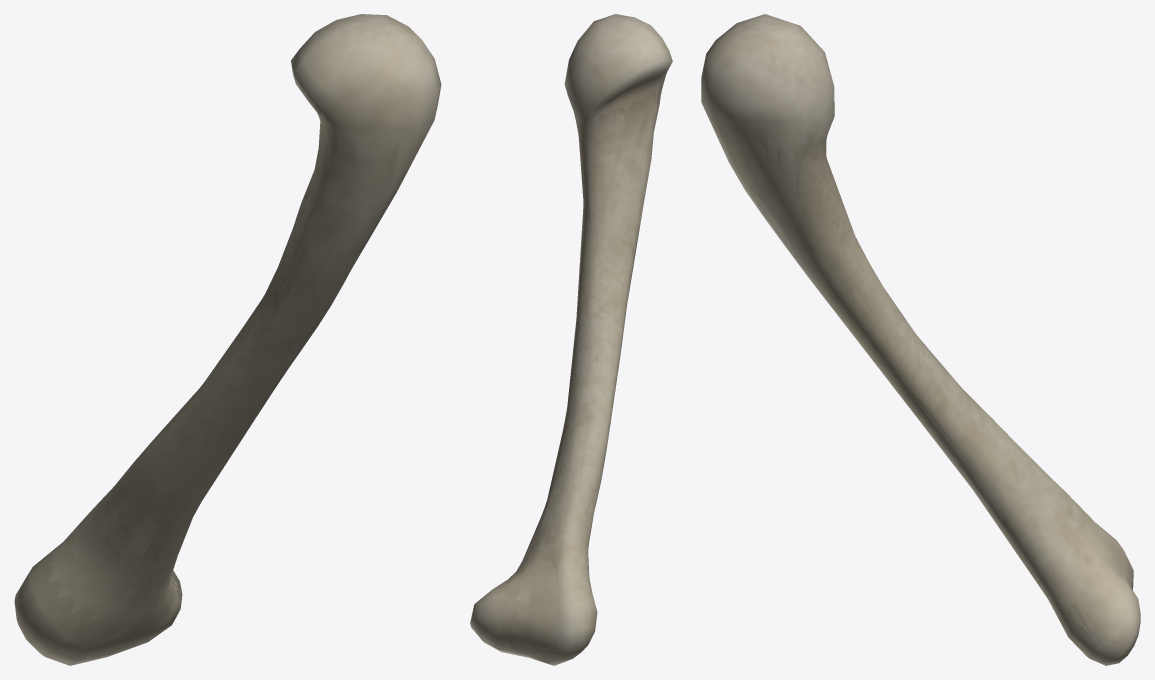
The model's file is R Humerus.fbx.
3 views of the same model, side by side, from view 1: azimuth 30°, elevation 25°; view 2: azimuth 150°, elevation 25°; view 3: azimuth 270°, elevation 25° (orthographic). The views are drawn at different scales.
Parts seen in each view (by area): view 1: R Humerus, R Humerus low, R Humerus high; view 2: R Humerus low, R Humerus, R Humerus high; view 3: R Humerus low, R Humerus, R Humerus high.
Part boxes in pixels (left/top/right/bottom): R Humerus: left=14, top=14, right=441, bottom=665; R Humerus low: left=15, top=15, right=440, bottom=662; R Humerus high: left=23, top=26, right=436, bottom=651; R Humerus low: left=471, top=17, right=667, bottom=662; R Humerus: left=470, top=14, right=672, bottom=665; R Humerus high: left=473, top=16, right=666, bottom=658; R Humerus low: left=701, top=16, right=1138, bottom=664; R Humerus: left=701, top=14, right=1140, bottom=665; R Humerus high: left=704, top=20, right=1133, bottom=658.
Bounding box in the file's own units: 2.07 × 6.94 × 4.21.
1 material, 1 textured.
